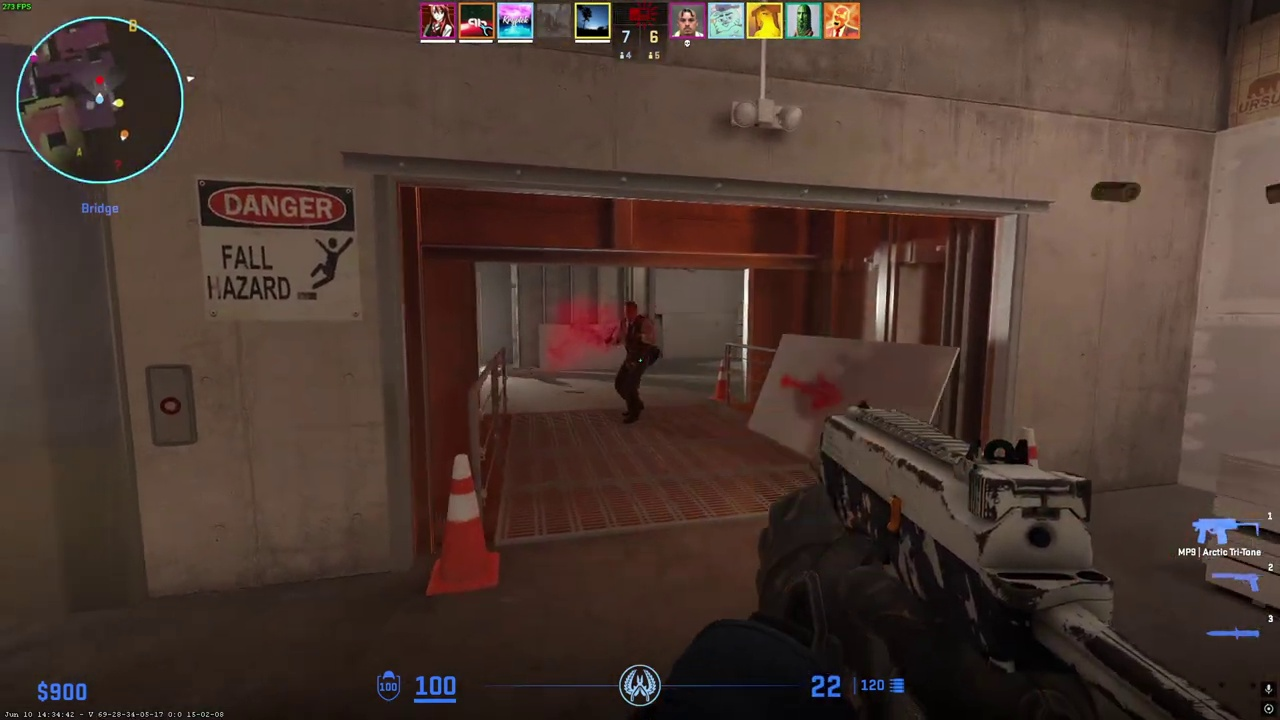Terrorist: (613, 300, 653, 423)
